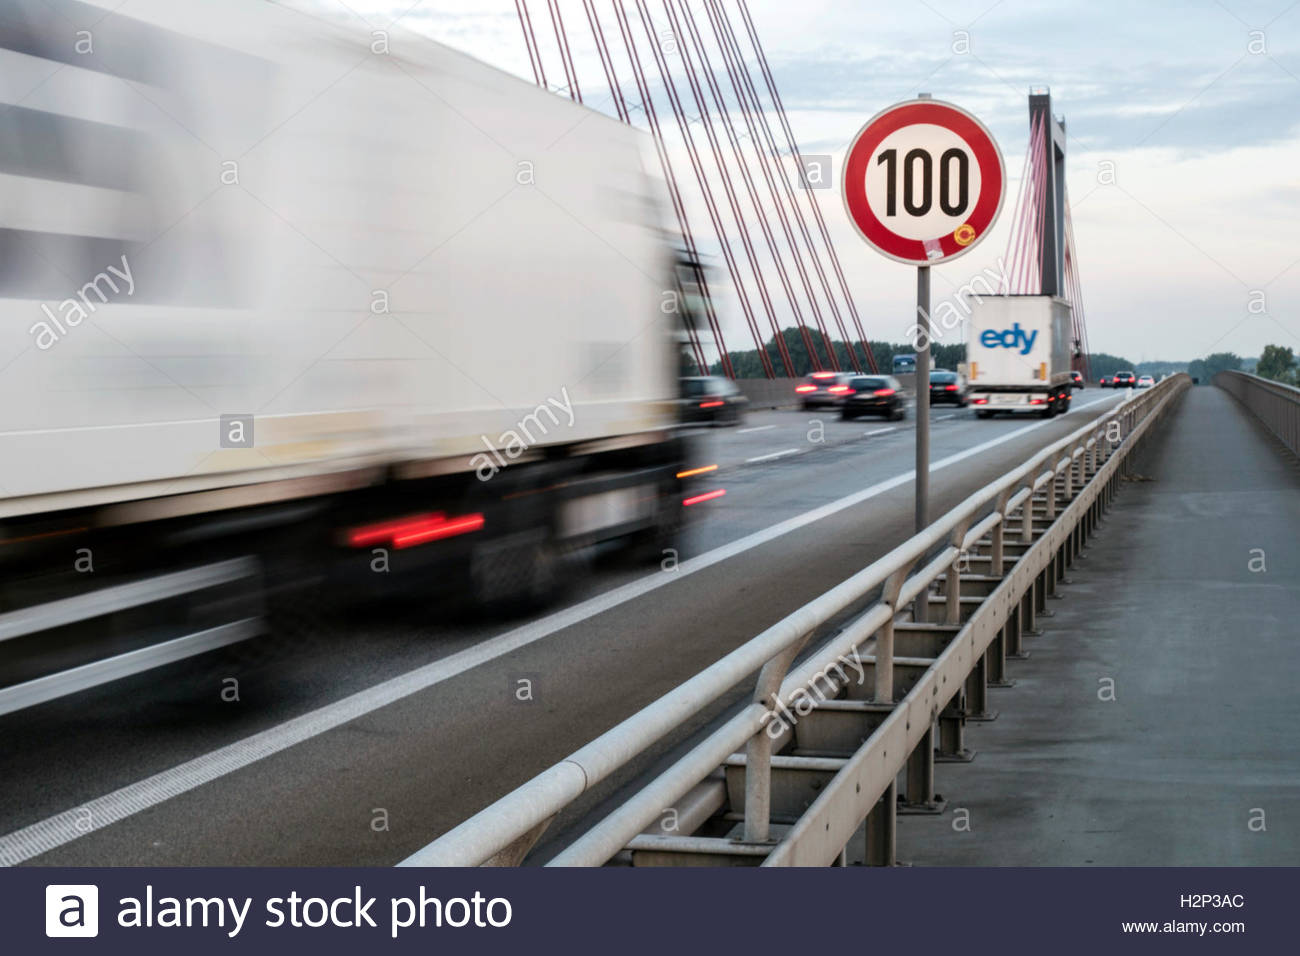Speed_limit_100km: (844, 99, 1007, 263)
